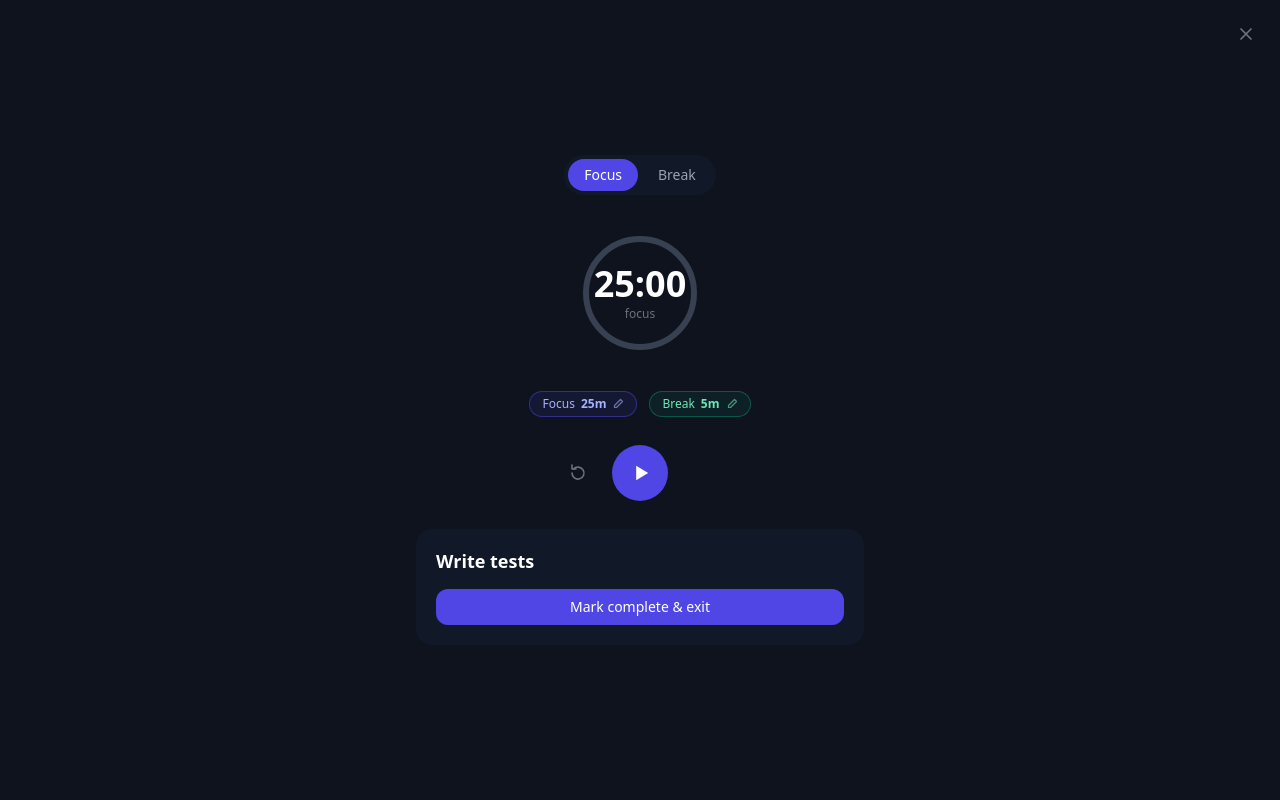
Test: FocusMode – timer expiry › switches to break mode (05:00) when 25-minute work timer expires
// Start the timer
Click the button named "start timer": click(640, 473) [612,445,668,501]
Wait 1501000 ms
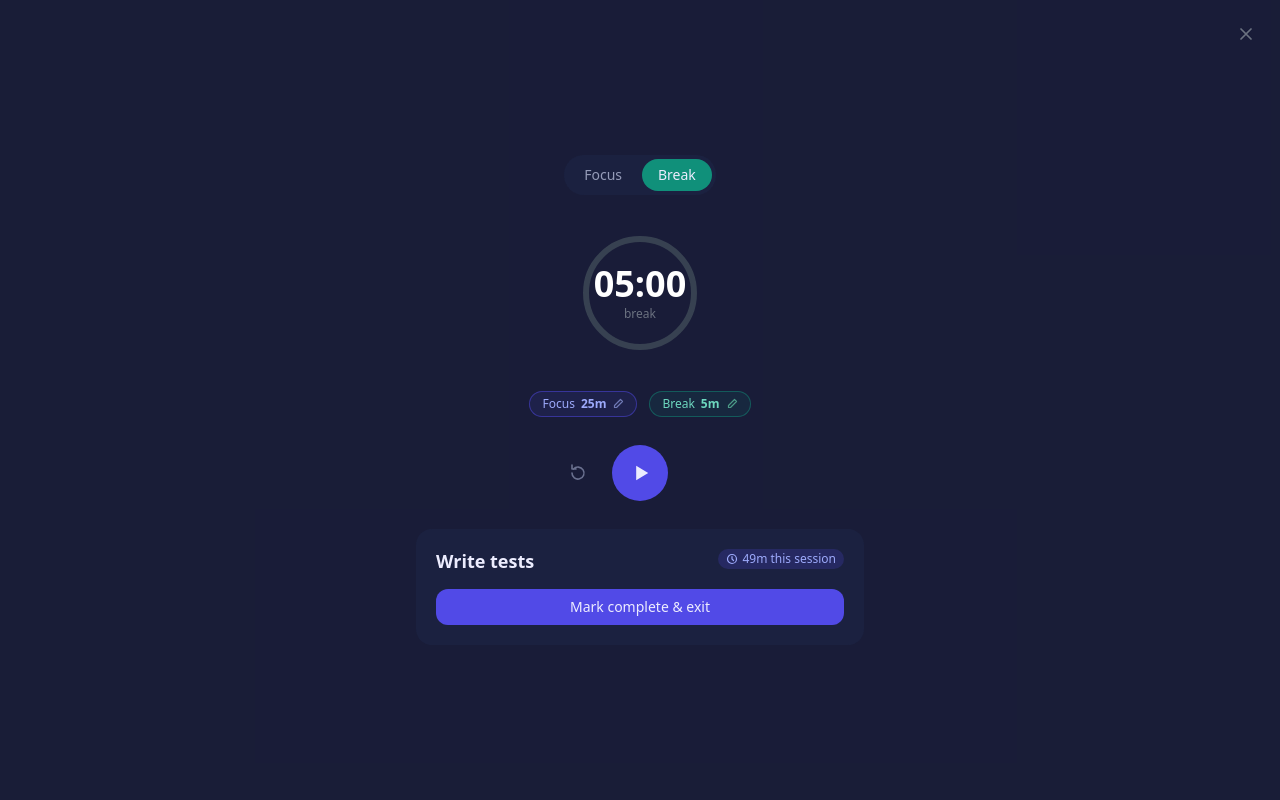
Now the text "05:00" is shown, box [594,264,686,304]
